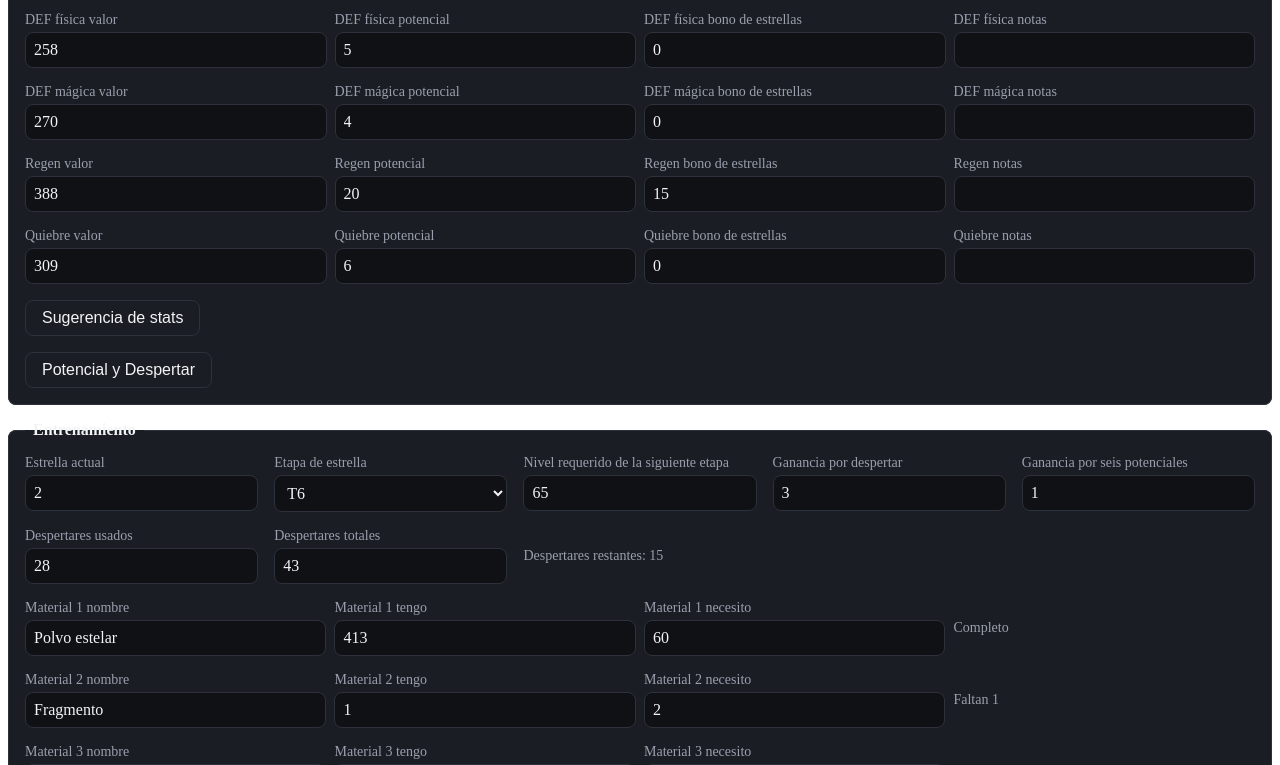
Test: cupo de Despertar › muestra el sugerido, el cargado, la diferencia y el desglose
(page scrolled)
Click the button "Potencial y Despertar". click: coordinates (118, 370)
box: [25,352,212,388]
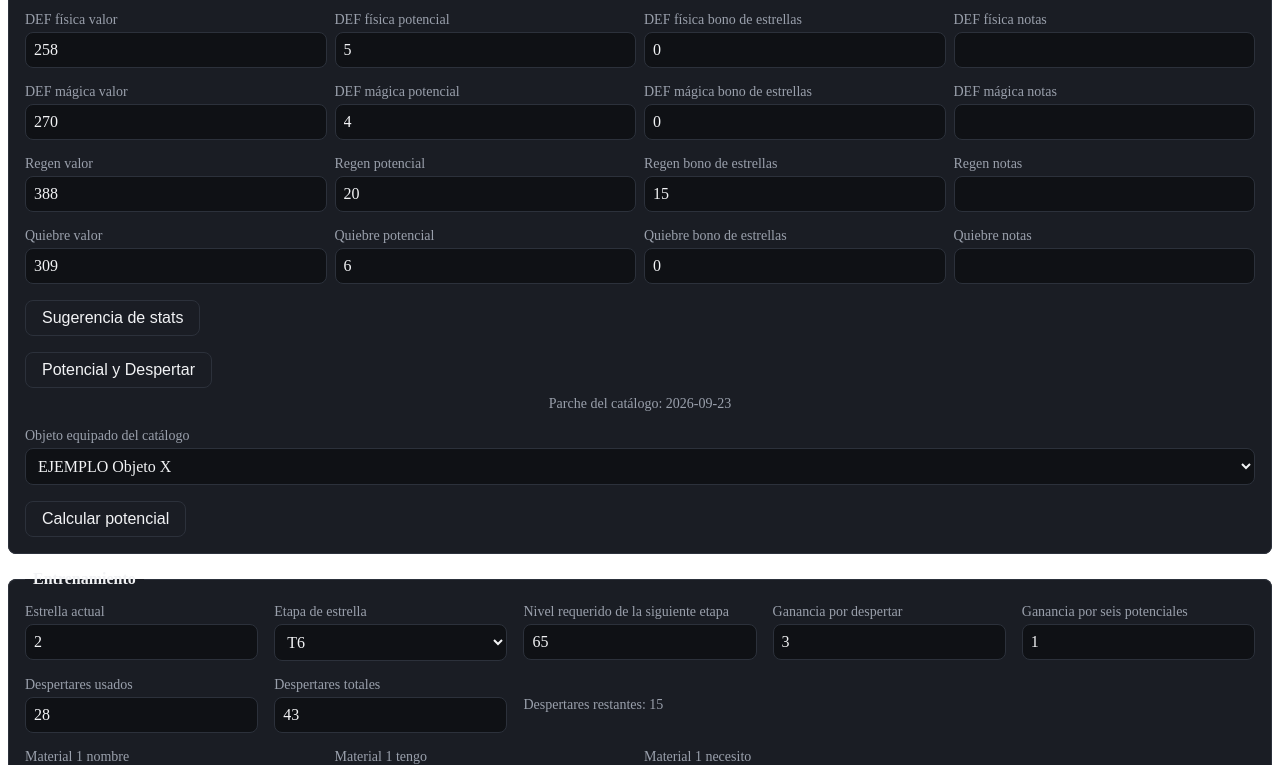
Expected: the button "Calcular potencial" is shown
Click the button "Calcular potencial". click: coordinates (106, 519)
box: [25,501,186,537]
(page scrolled)
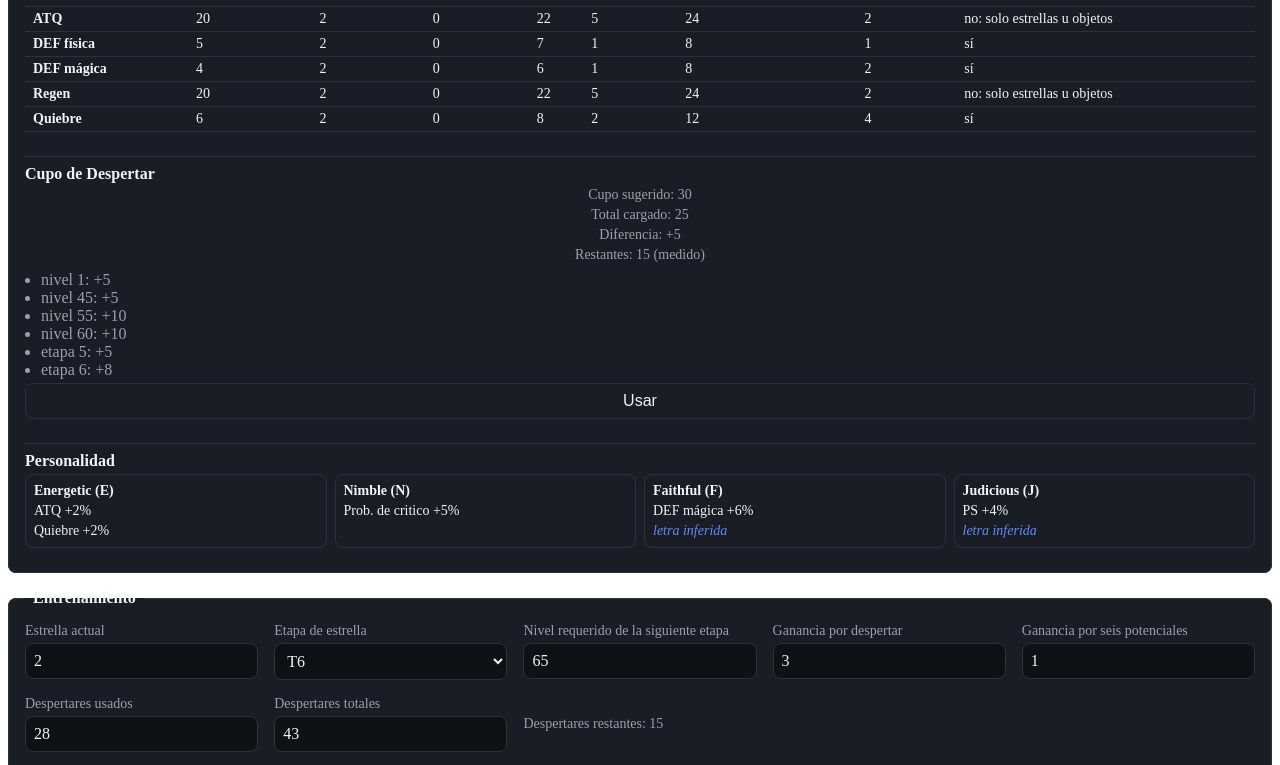
Expected: the text "Cupo sugerido: 30" is shown, [588,187,692,203]
Expected: the text "Total cargado: 25" is shown, [591,207,689,223]
Expected: the text "Diferencia: +5" is shown, [599,227,681,243]
